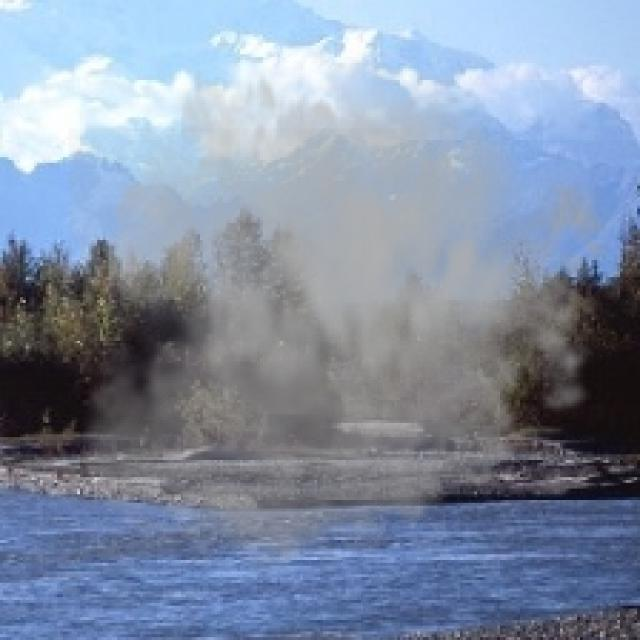Smoke: (69, 31, 626, 588)
